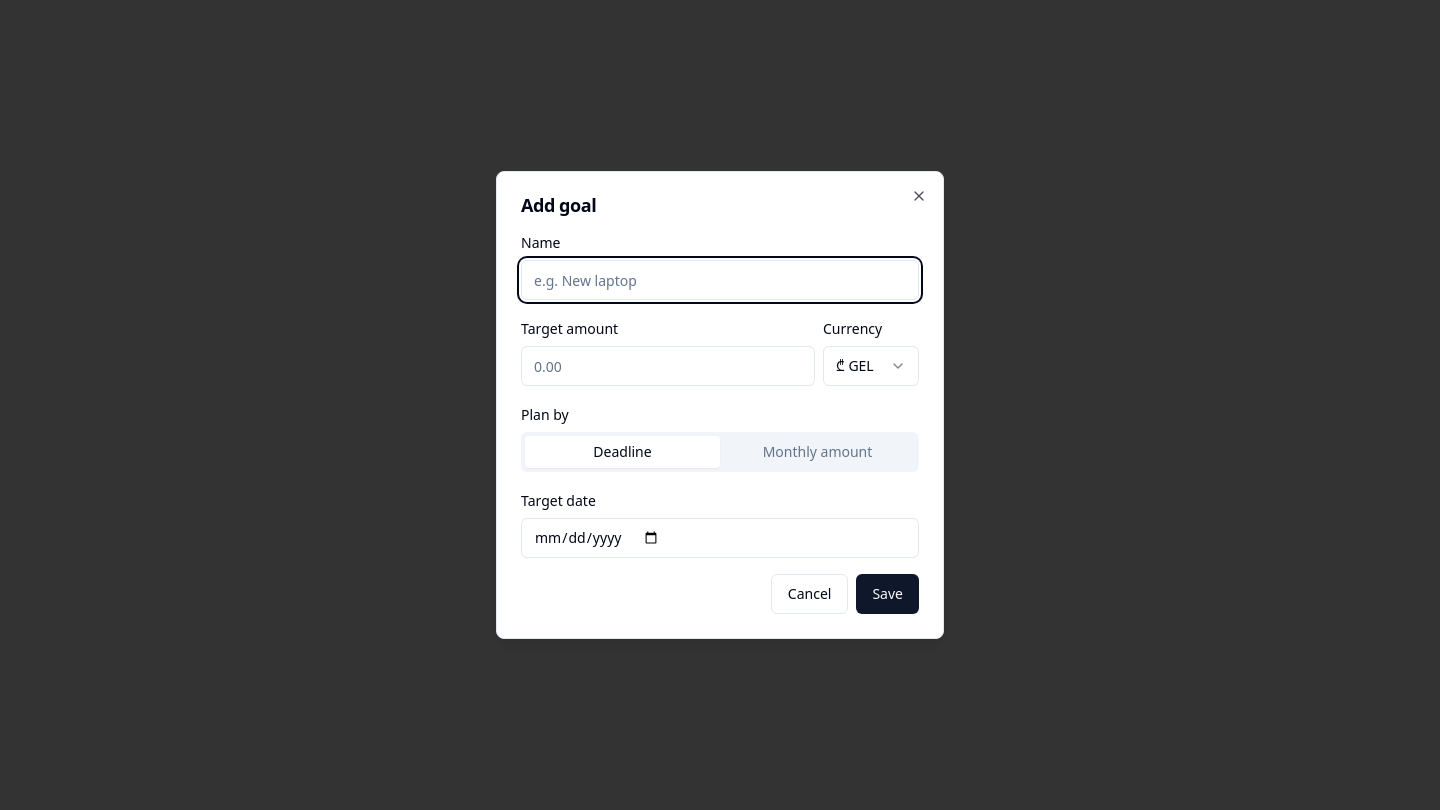
Test: GoalDialog › computes the required monthly contribution live from a target date
In the field labelled "Target amount": (668, 366) left=521, top=346, right=815, bottom=386, type "1500"
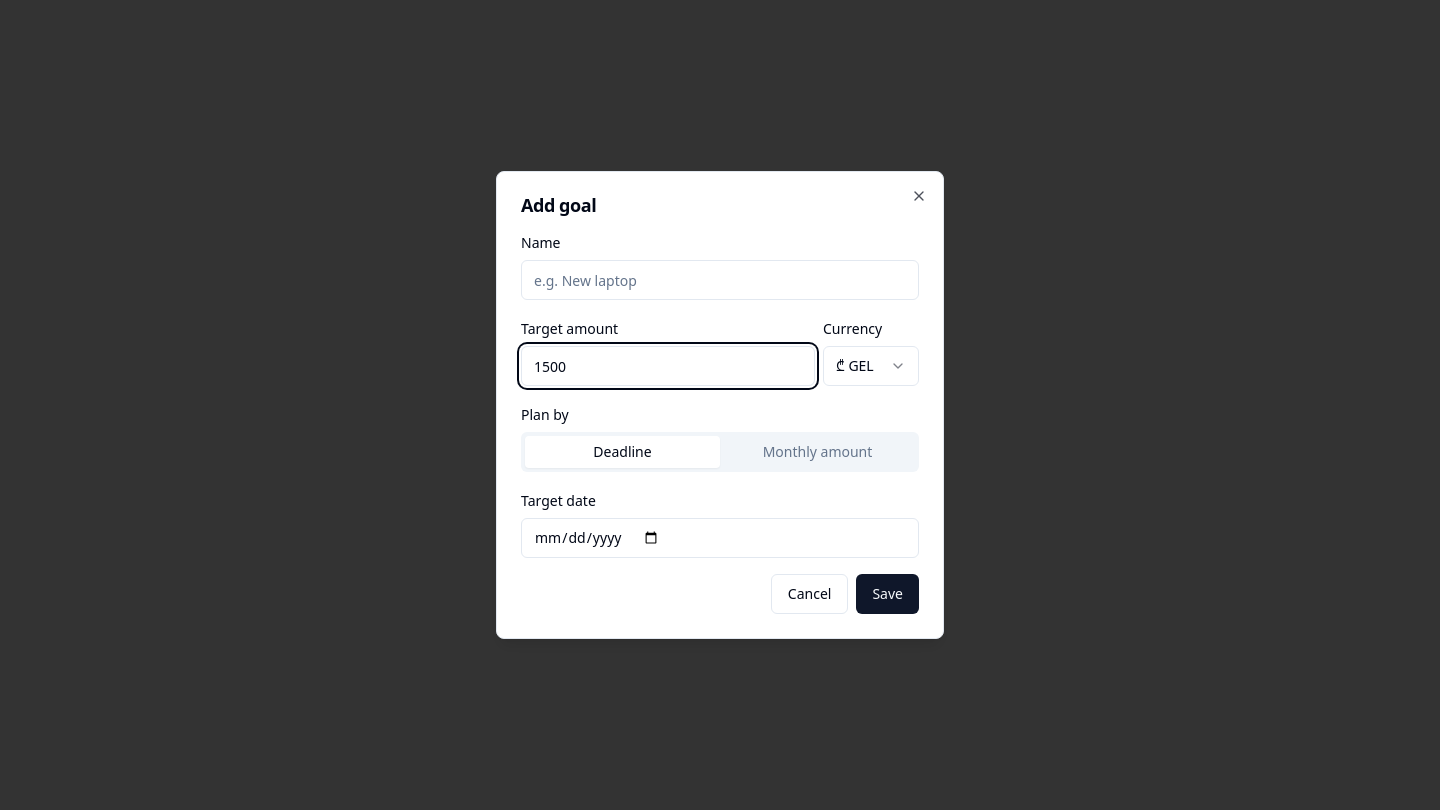
In the date field labelled "Target date": (720, 538) left=521, top=518, right=919, bottom=558, type "2030-12-01"
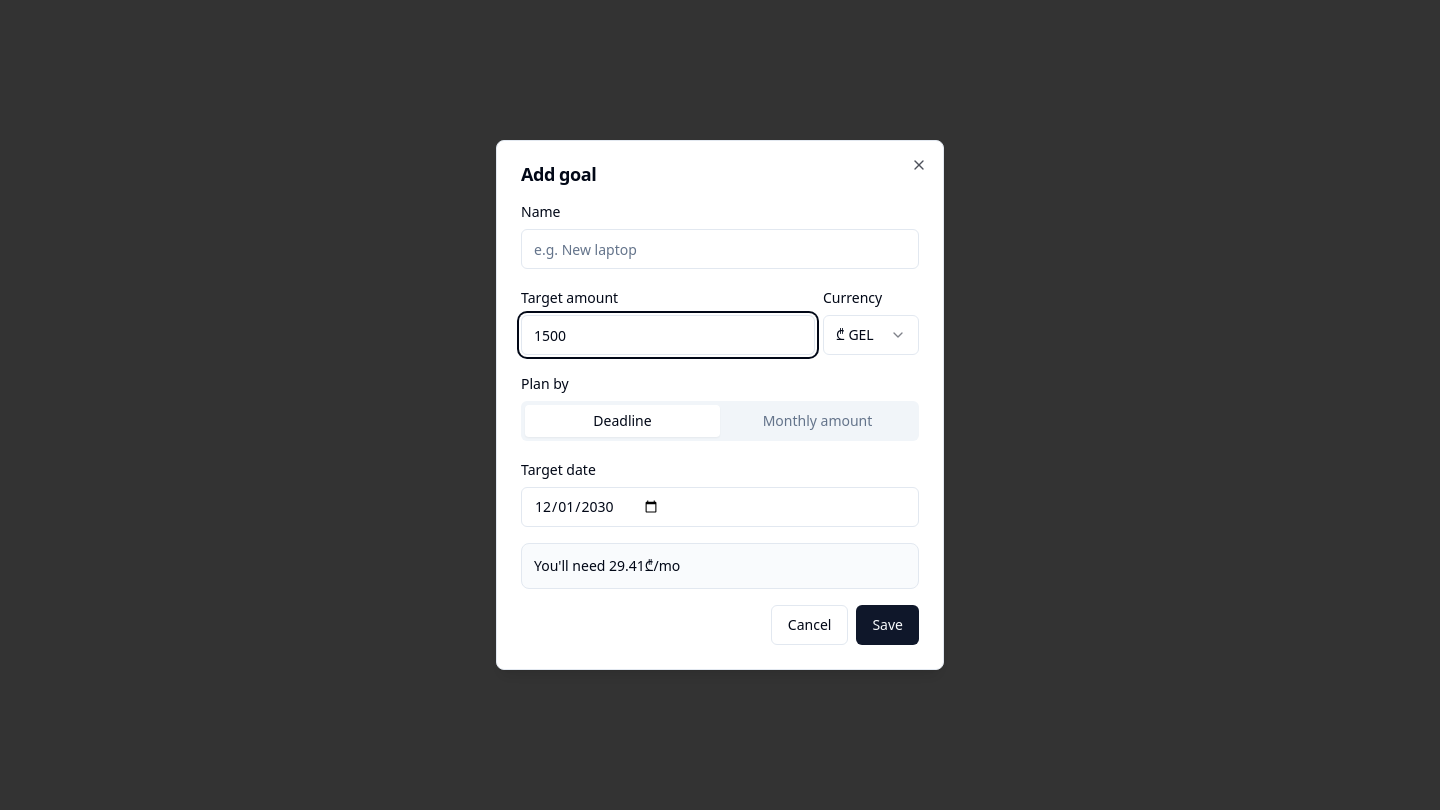
Result: the text "You'll need 29.41₾/mo" is shown at left=521, top=543, right=919, bottom=589
